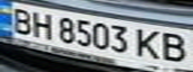0: (90, 20, 112, 52)
3: (109, 22, 133, 56)
5: (72, 18, 93, 48)
8: (54, 15, 78, 45)
B: (157, 29, 190, 64), (6, 5, 36, 35)
H: (27, 9, 57, 39)
K: (133, 27, 166, 61)
